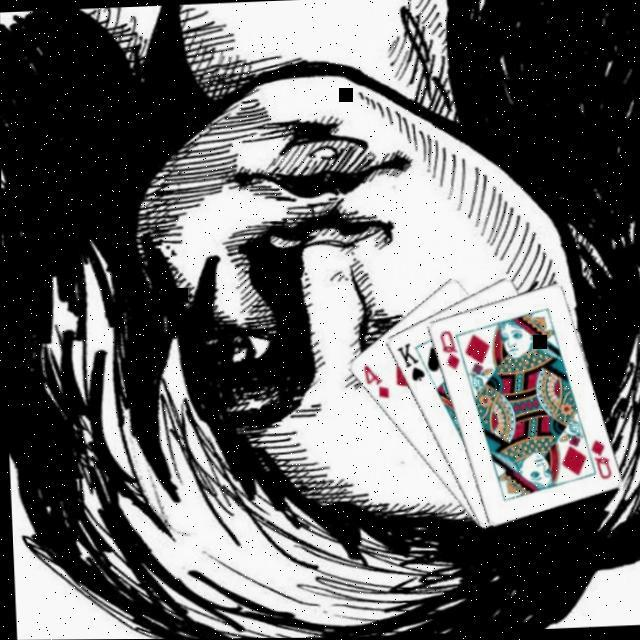4D: (360, 362, 392, 403)
KS: (392, 339, 427, 386)
QD: (435, 327, 463, 374), (586, 437, 614, 484)
